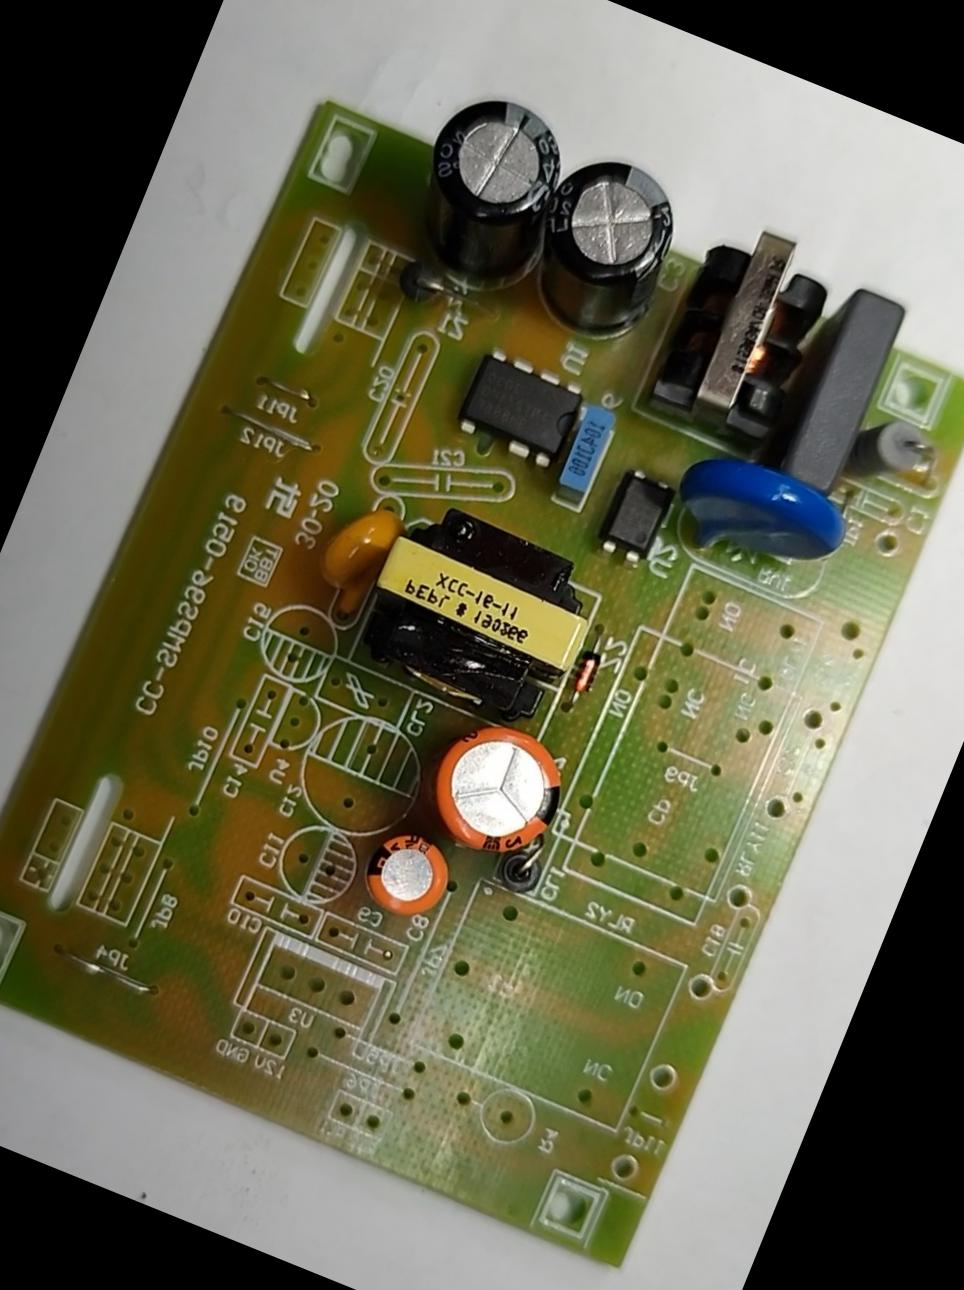Cap1: (409, 705, 581, 879)
Cap2: (351, 817, 461, 932)
Cap3: (508, 144, 701, 365)
Cap4: (389, 75, 577, 296)
MOSFET: (453, 346, 587, 475)
Mov: (659, 444, 863, 604)
Resistor: (841, 404, 938, 509)
Transformer: (344, 487, 613, 730), (641, 206, 851, 458)
